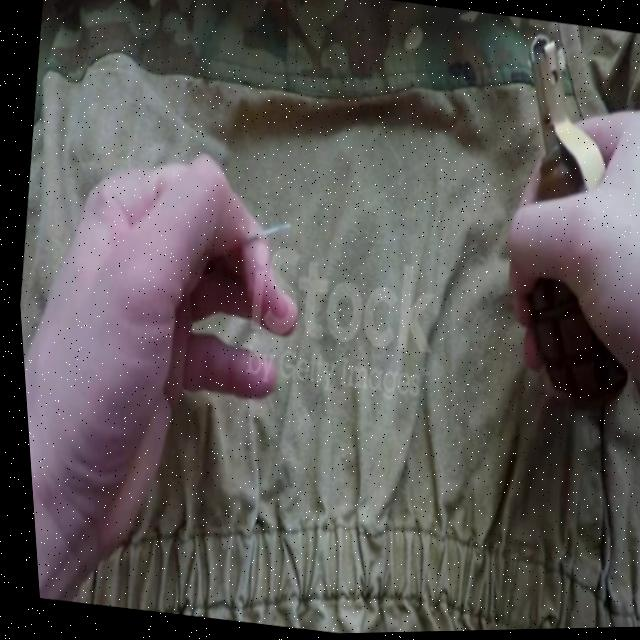grenade: (477, 25, 640, 410)
